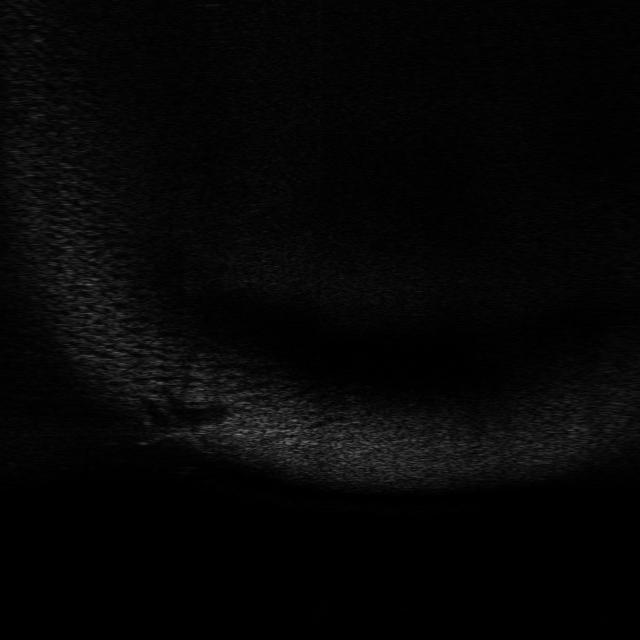plane: (140, 416, 220, 453)
